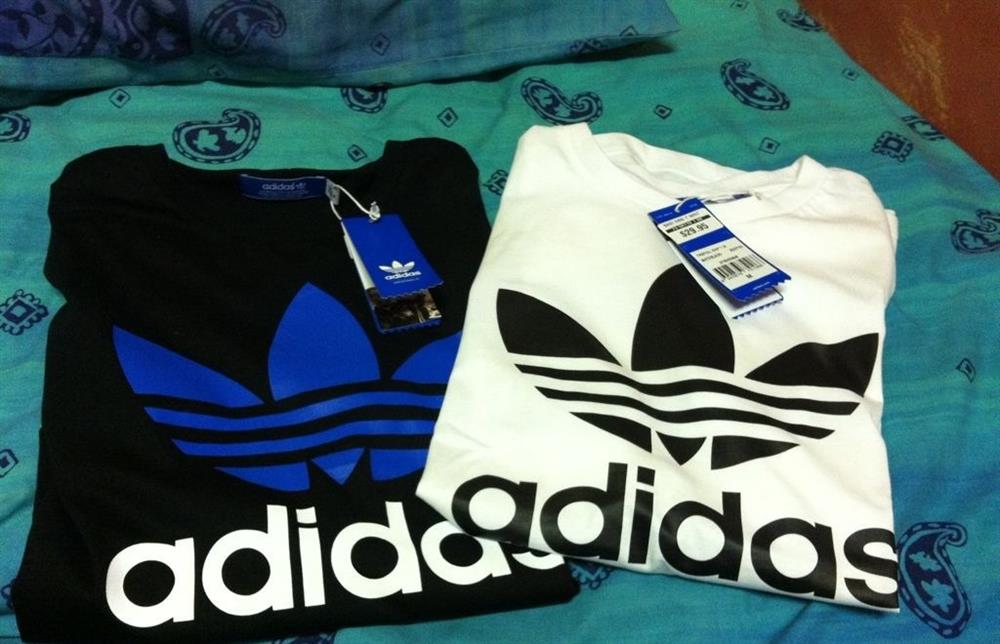Adidas_Originals: (97, 287, 572, 615)
